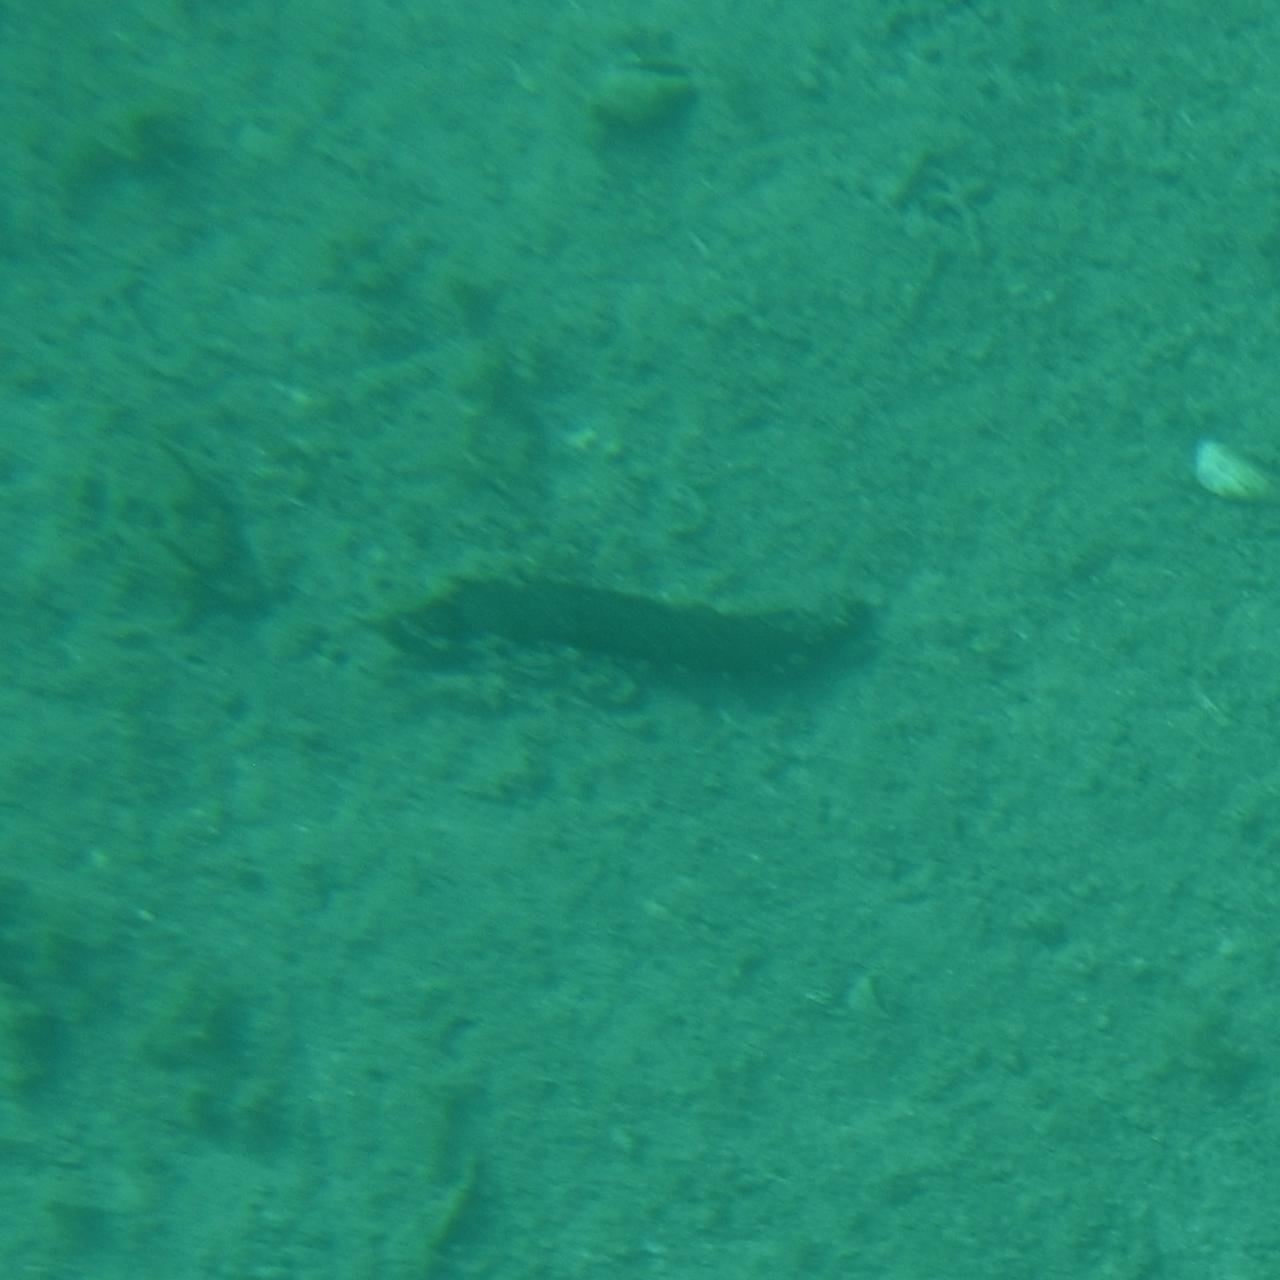Holothuria tubulosa: (392, 565, 888, 715)
